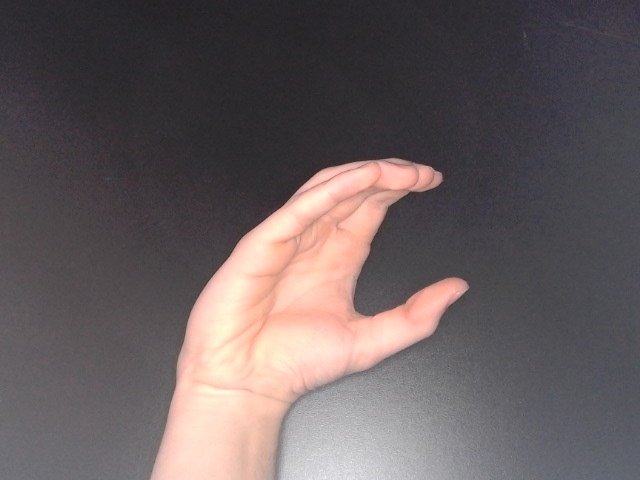c: (170, 151, 476, 415)
